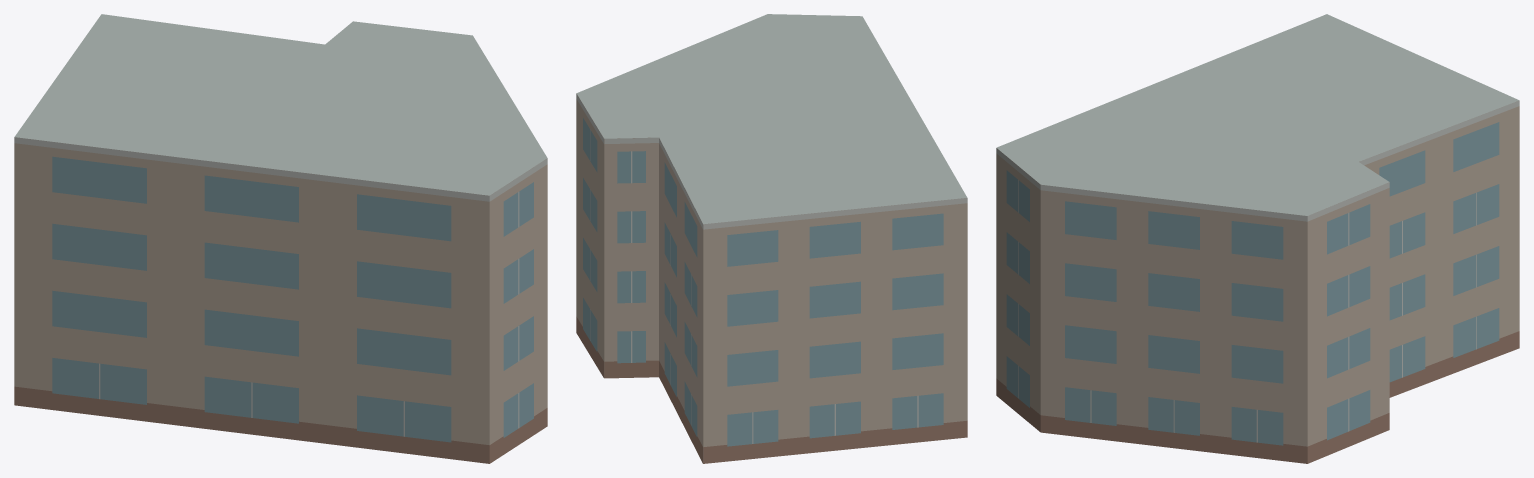
File: survey-upis-32717464.glb
The picture shows the model from 3 angles, left to right: view 1: azimuth 30°, elevation 25°; view 2: azimuth 150°, elevation 25°; view 3: azimuth 270°, elevation 25°; orthographic projection. The views are drawn at different scales.
Visible parts, largest first — view 1: survey-upis-32717464.tmp; view 2: survey-upis-32717464.tmp; view 3: survey-upis-32717464.tmp.
Part boxes in pixels (bbox=[...]): survey-upis-32717464.tmp: bbox=[14, 14, 547, 463]; survey-upis-32717464.tmp: bbox=[576, 14, 967, 463]; survey-upis-32717464.tmp: bbox=[996, 14, 1519, 463].
Size of the model in its own units: 18.89 by 10.8 by 20.68.
